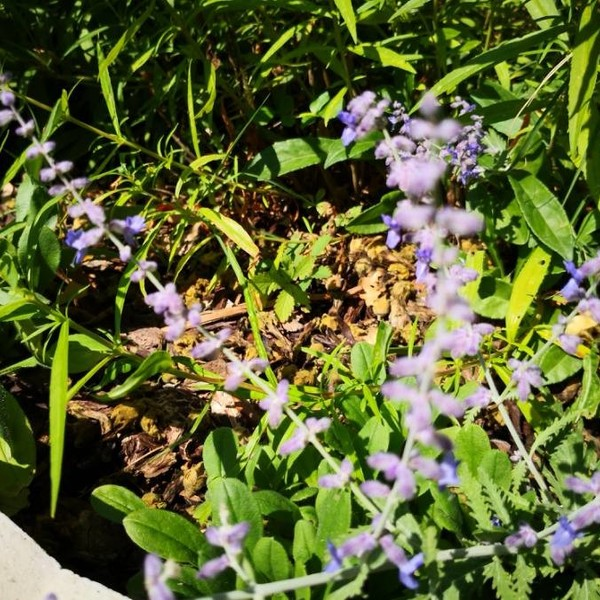obstacle: (43, 78, 555, 576)
